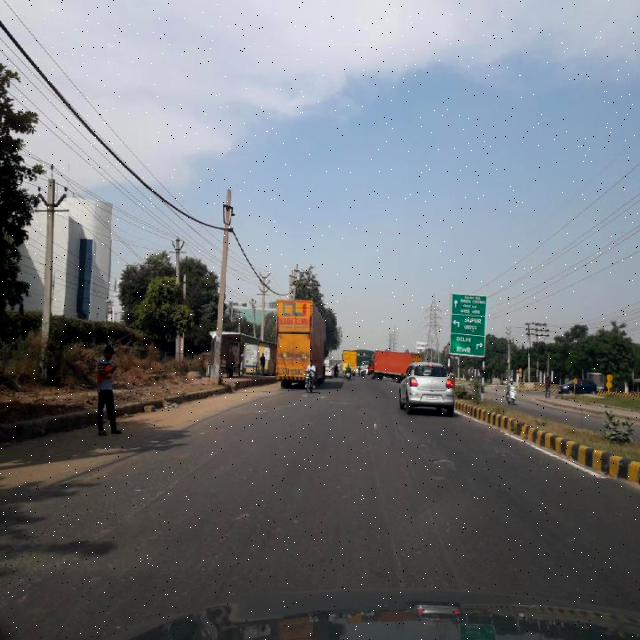D01: (360, 460, 416, 586), (95, 466, 188, 537), (1, 538, 93, 609)
D40: (426, 451, 458, 480)
